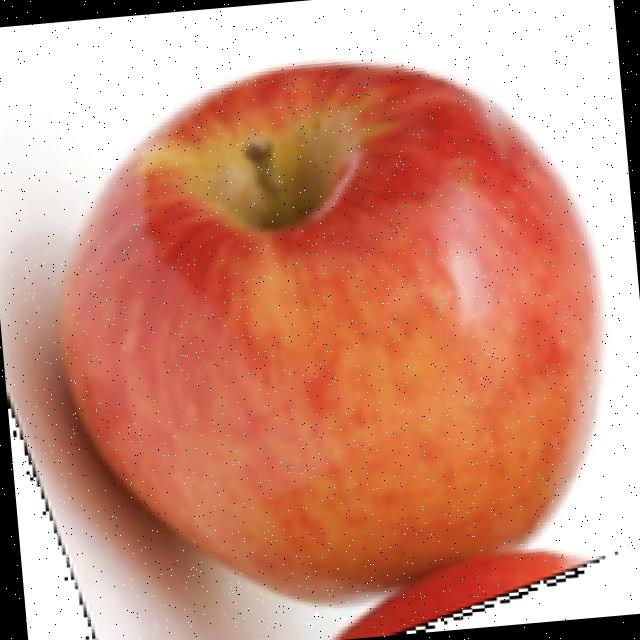apple: (0, 54, 610, 640)
